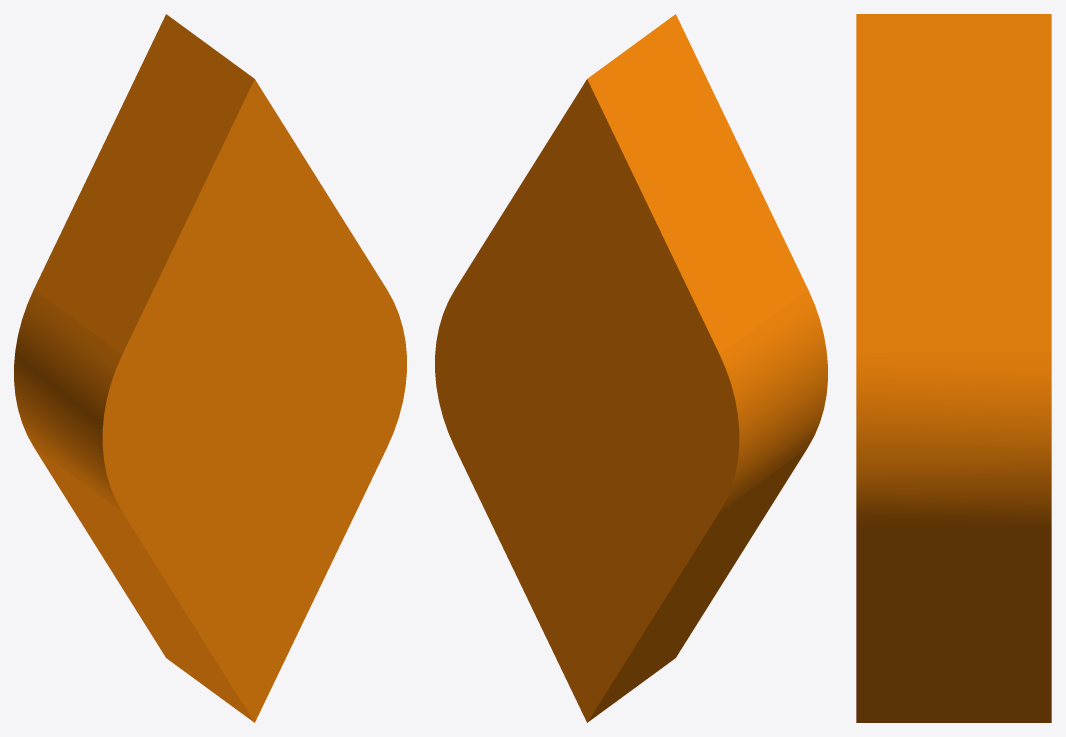
Rendered from carbide.fbx.
3 views of the same model, side by side, from view 1: azimuth 30°, elevation 25°; view 2: azimuth 150°, elevation 25°; view 3: azimuth 270°, elevation 25° (orthographic). The views are drawn at different scales.
Visible parts, largest first — view 1: meshes[0]; view 2: meshes[0]; view 3: meshes[0].
Boxes of the visible parts, <box> form: meshes[0]: <box>14,14,406,722</box>; meshes[0]: <box>435,14,827,722</box>; meshes[0]: <box>856,14,1051,722</box>.
Bounding box in the file's own units: 0.9889 × 2 × 0.499.
